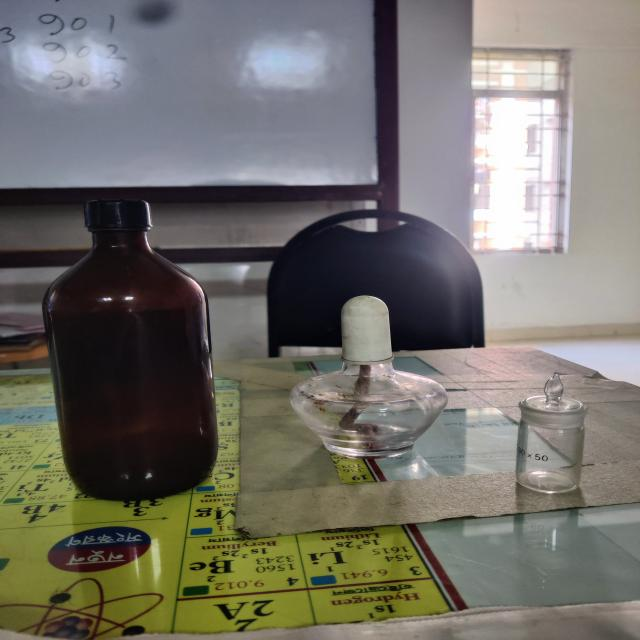Nessler_Reagent_Bottle: (35, 186, 228, 529)
Spirit_Lamp: (276, 286, 470, 477)
Weighing_Bottle: (502, 364, 610, 519)
